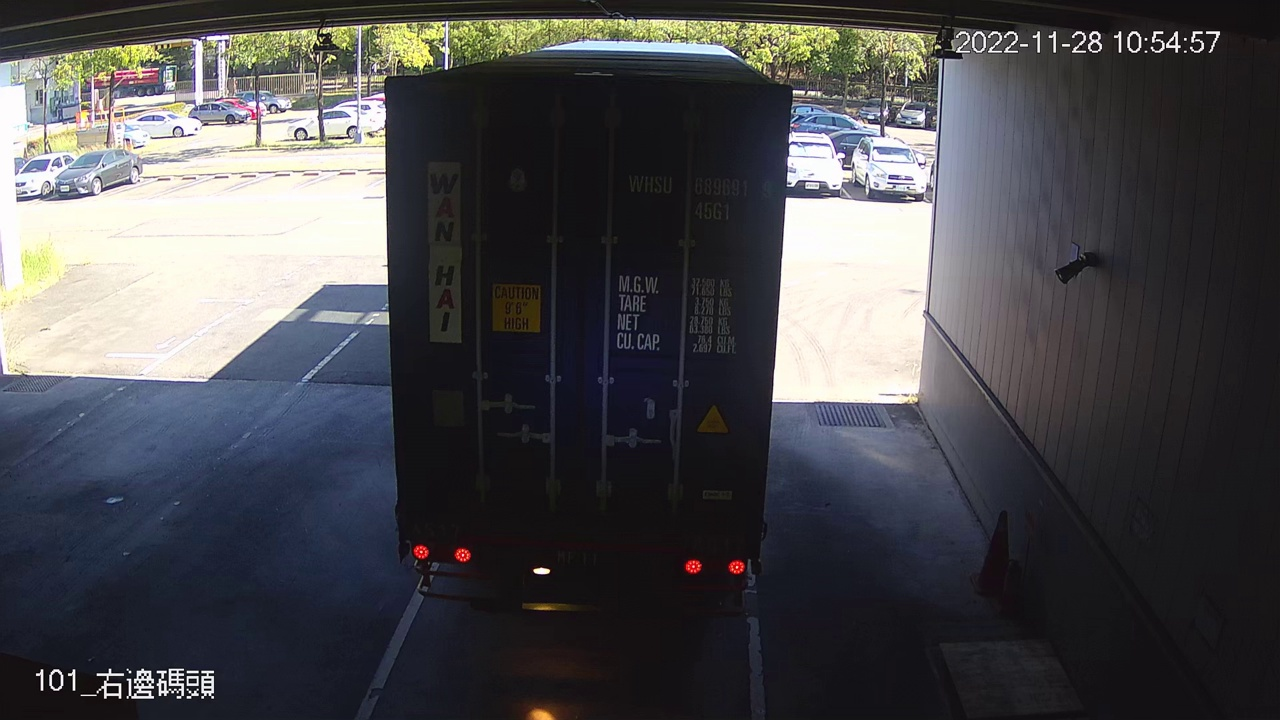container: (622, 166, 777, 228)
